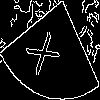X: (25, 25, 68, 77)
